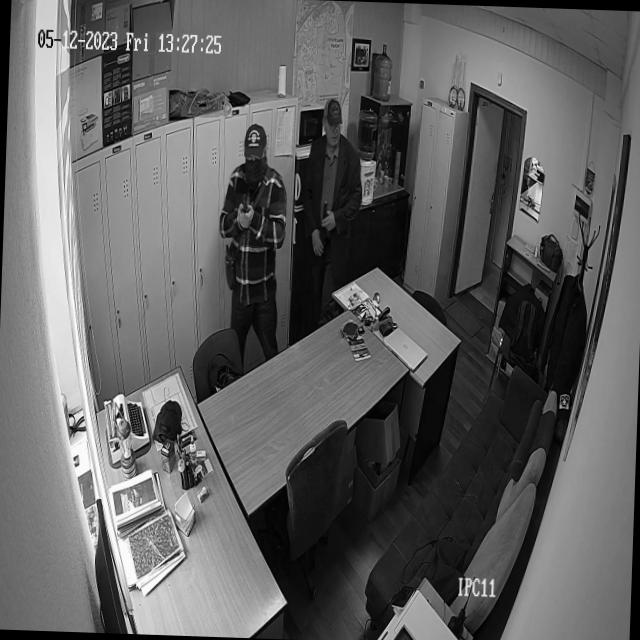gun: (236, 190, 253, 233)
person: (297, 90, 366, 316)
person with a gun: (213, 118, 291, 350)
